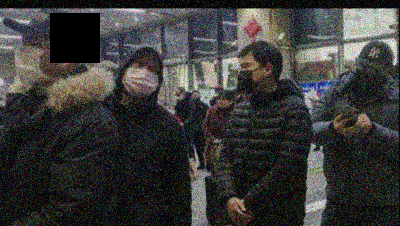with_mask: (12, 40, 62, 86), (120, 61, 159, 99), (353, 66, 386, 94), (234, 61, 263, 91), (174, 88, 183, 102), (166, 105, 175, 115), (190, 93, 199, 102)
without_mask: (216, 97, 228, 111)
